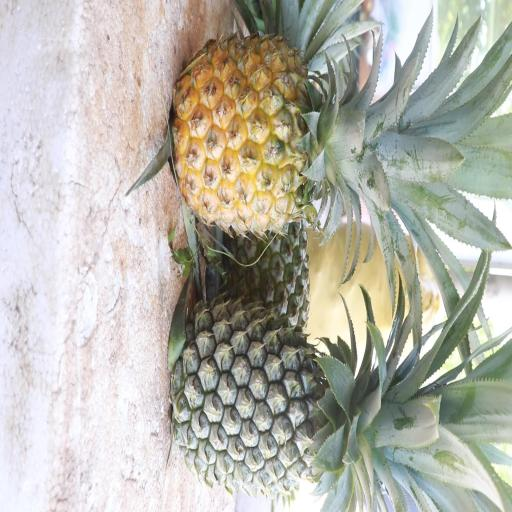Pineapple - v8 v1: (164, 26, 433, 246)
